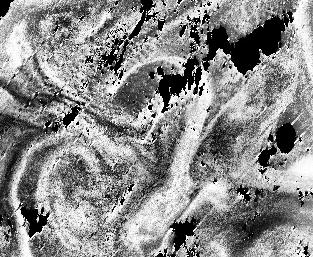AE: (9, 125, 141, 242)
